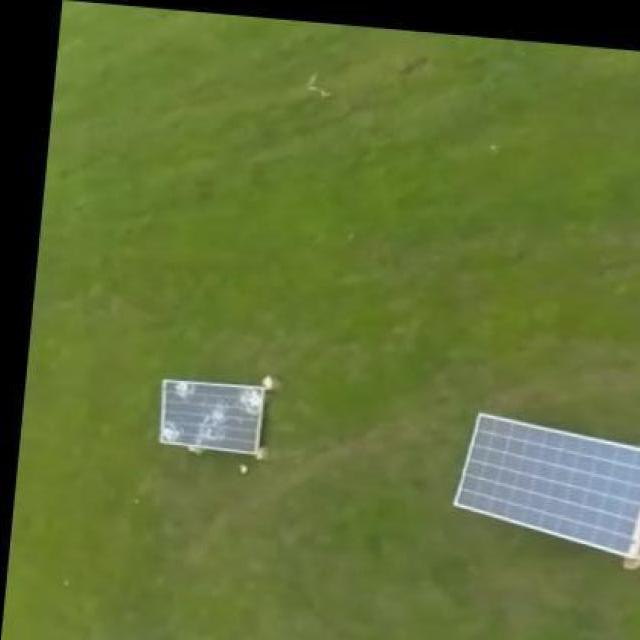cracked: (152, 374, 272, 458)
